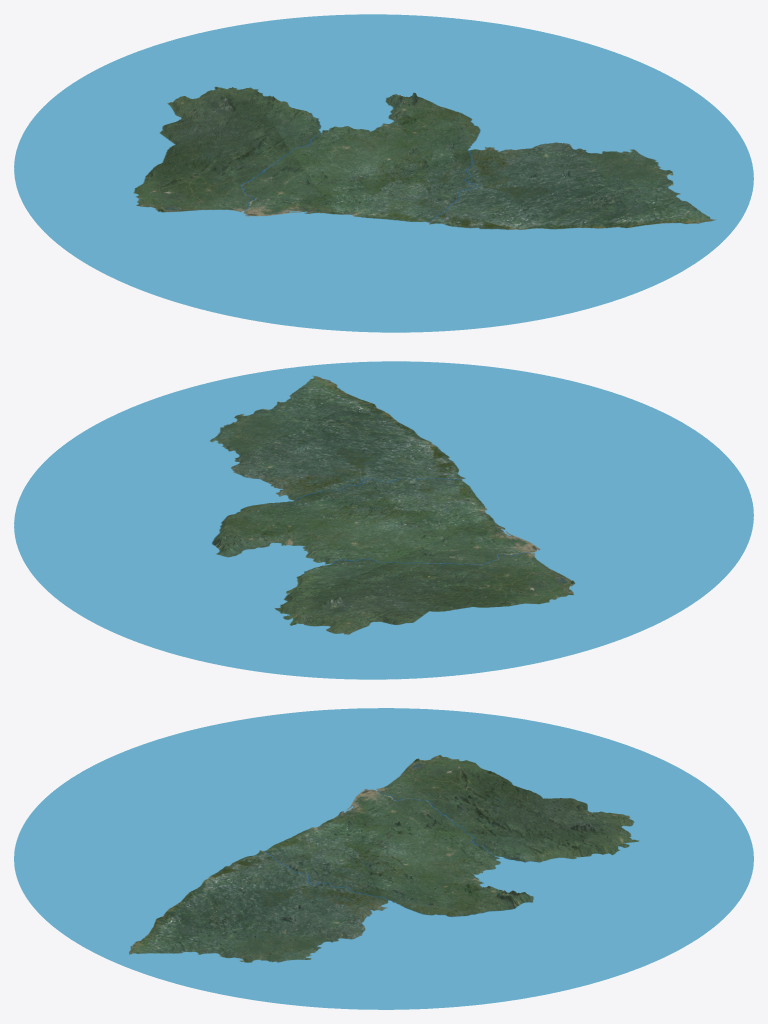
File: LBR-previa-terrain.glb
The picture shows the model from 3 angles, top to bottom: view 1: azimuth 30°, elevation 25°; view 2: azimuth 150°, elevation 25°; view 3: azimuth 270°, elevation 25°; orthographic projection. The views are drawn at different scales.
Visible parts, largest first — view 1: Libéria; view 2: Libéria; view 3: Libéria.
Boxes of the visible parts, box(x1,y1,x2,y2) form: Libéria: box(14, 14, 753, 332); Libéria: box(14, 361, 753, 679); Libéria: box(14, 708, 753, 1009).
Size of the model in its own units: 2.46 by 0.0426 by 2.55.
1 material, 1 textured.
